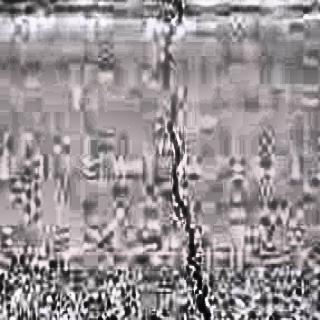crack: (162, 1, 210, 320)
